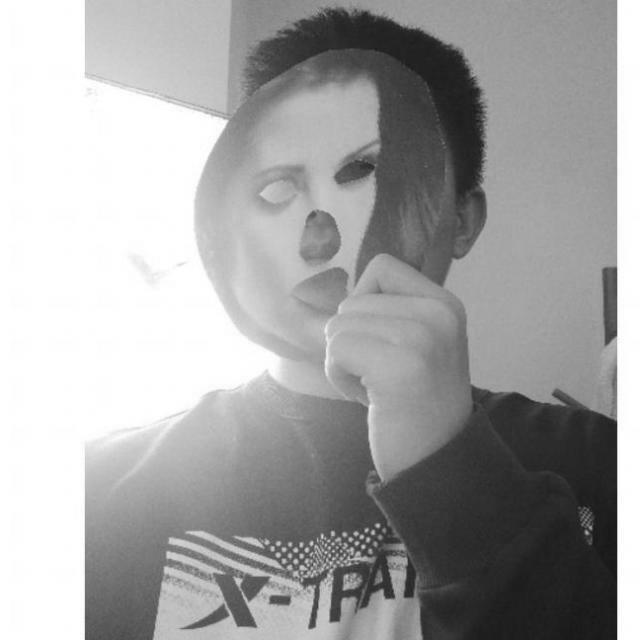fake: (193, 46, 451, 364)
